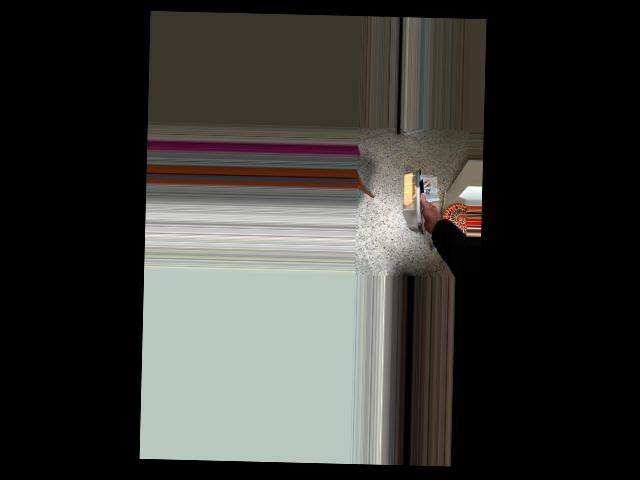cheese: (385, 174, 454, 245)
